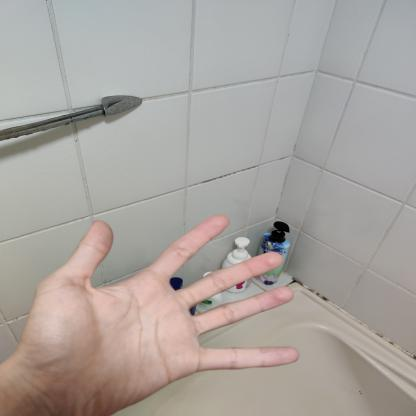bare_hand: (13, 210, 307, 414)
